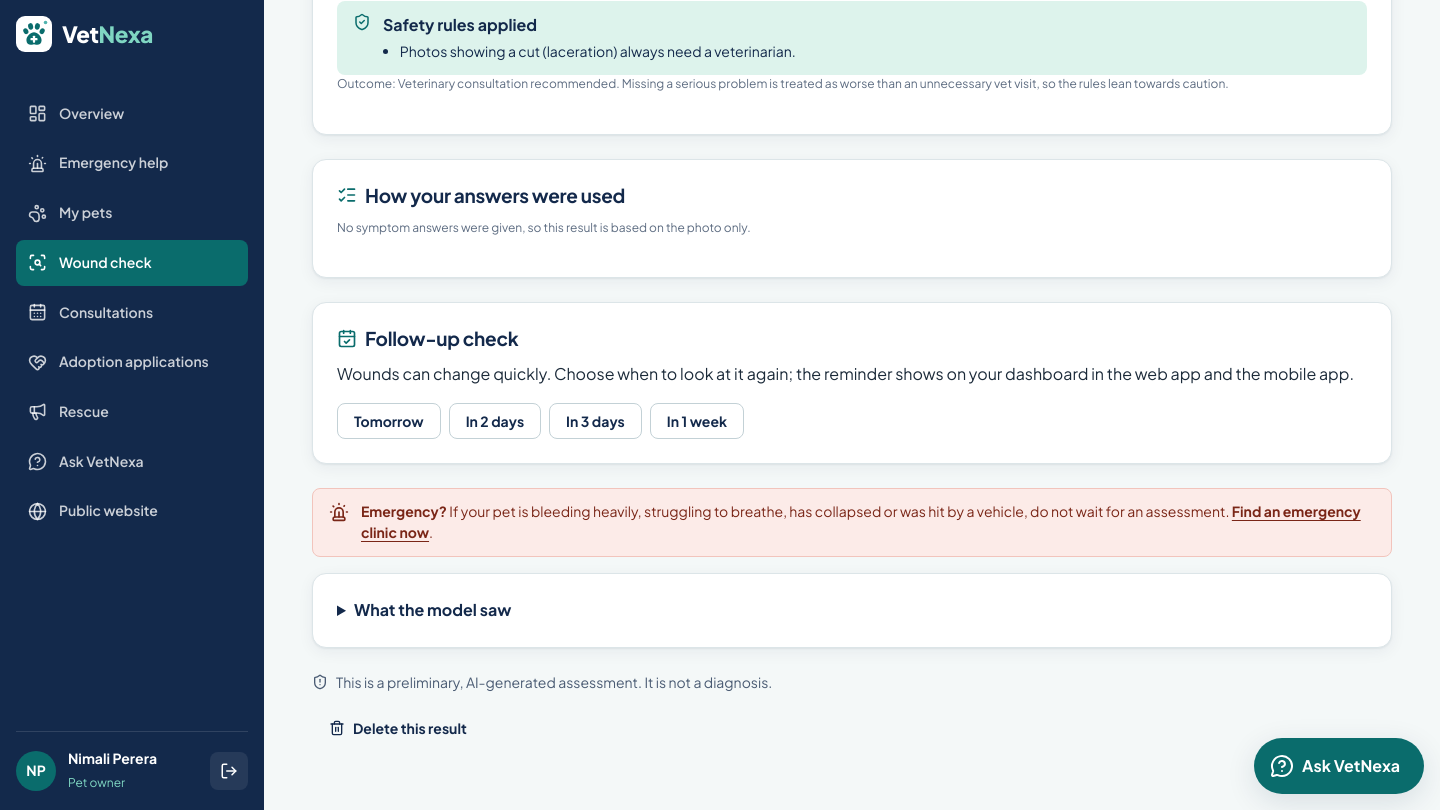
Test: wound follow-up check-ins › plans a follow-up from the result
(page scrolled)
Click the button "In 2 days" at {"x": 495, "y": 421}, box x1=449 y1=403 x2=541 y2=439
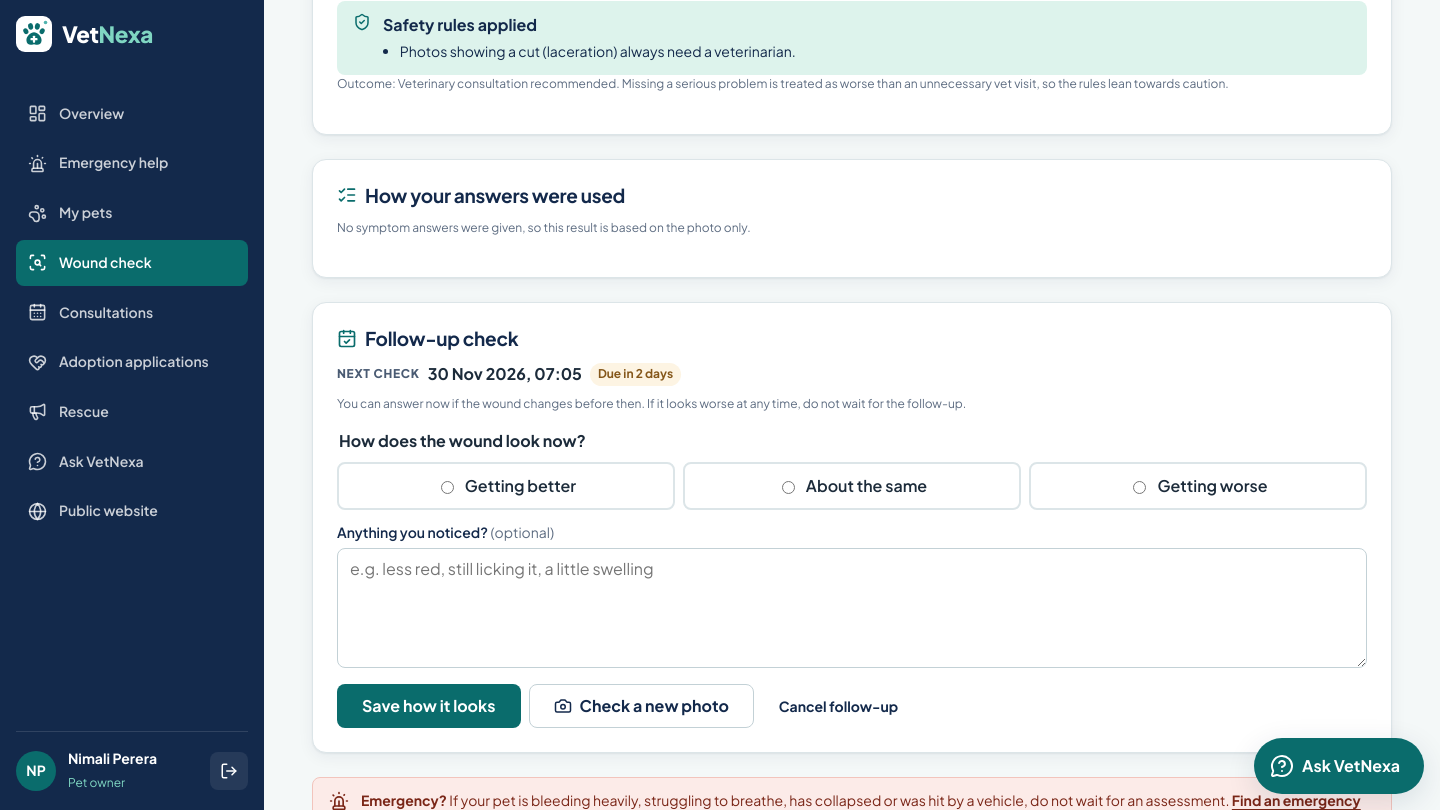
Expected: the text "Due in 2 days" is shown, x1=590 y1=363 x2=681 y2=386
